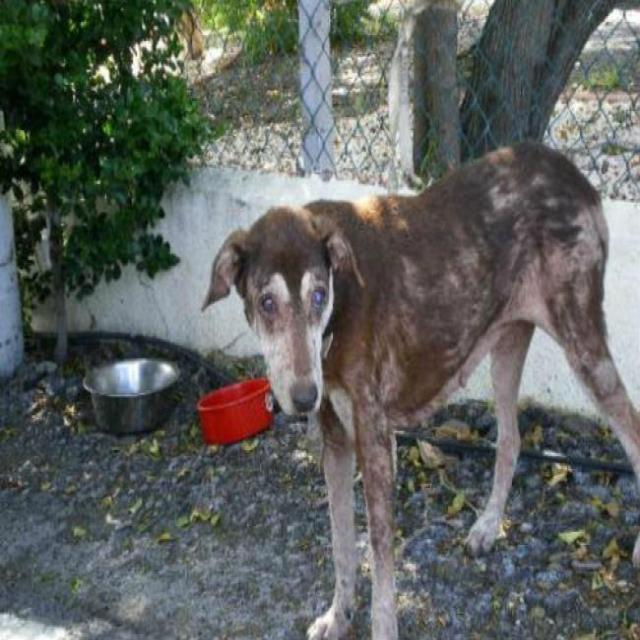mange: (351, 153, 615, 506)
